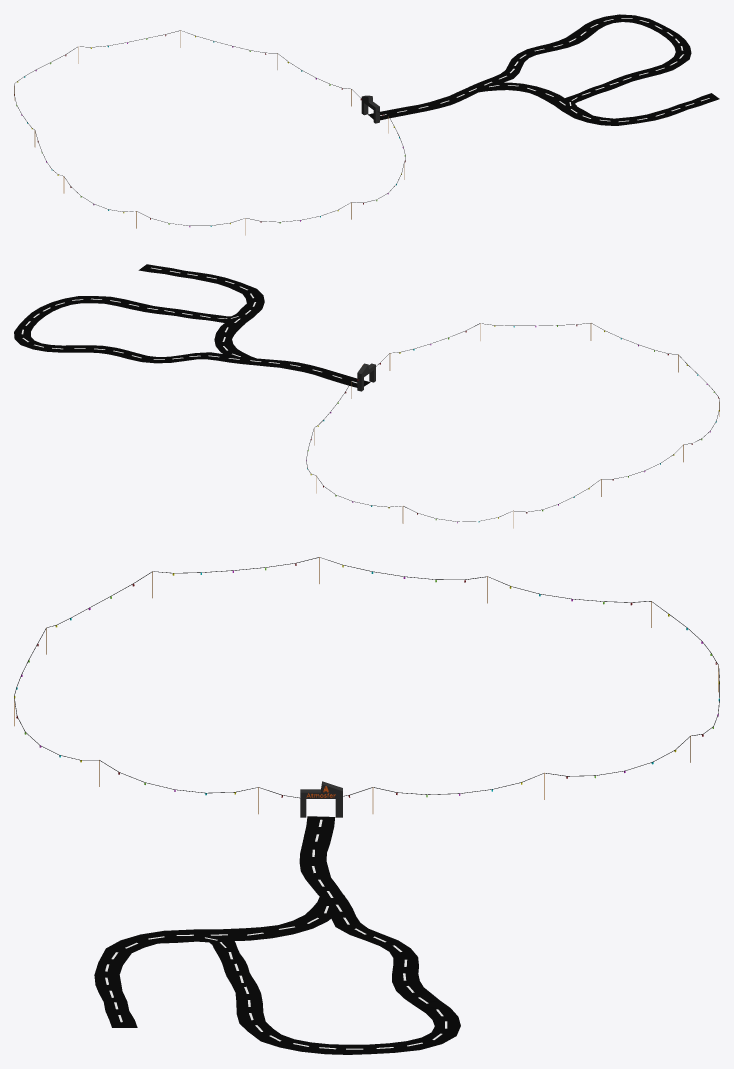
3 renders of one model, top to bottom at view 1: azimuth 30°, elevation 25°; view 2: azimuth 150°, elevation 25°; view 3: azimuth 270°, elevation 25°, orthographic. The views are drawn at different scales.
Visible parts, largest first — view 1: shadeBlack, Cube.004, shadeWhite; view 2: shadeBlack, Cube.004, shadeWhite; view 3: shadeBlack, Cube.004, shadeWhite, 303030FF.
Part boxes in pixels (x1,y1,x2,y2): shadeBlack: (368, 14, 719, 125); Cube.004: (14, 30, 405, 225); shadeWhite: (380, 18, 709, 121); shadeBlack: (14, 264, 370, 387); Cube.004: (306, 323, 719, 521); shadeWhite: (21, 267, 356, 383); shadeBlack: (94, 816, 460, 1054); Cube.004: (14, 557, 719, 798); shadeWhite: (105, 819, 447, 1049); 303030FF: (300, 781, 342, 817).
Size of the model in its own units: 161 by 5.28 by 102.
